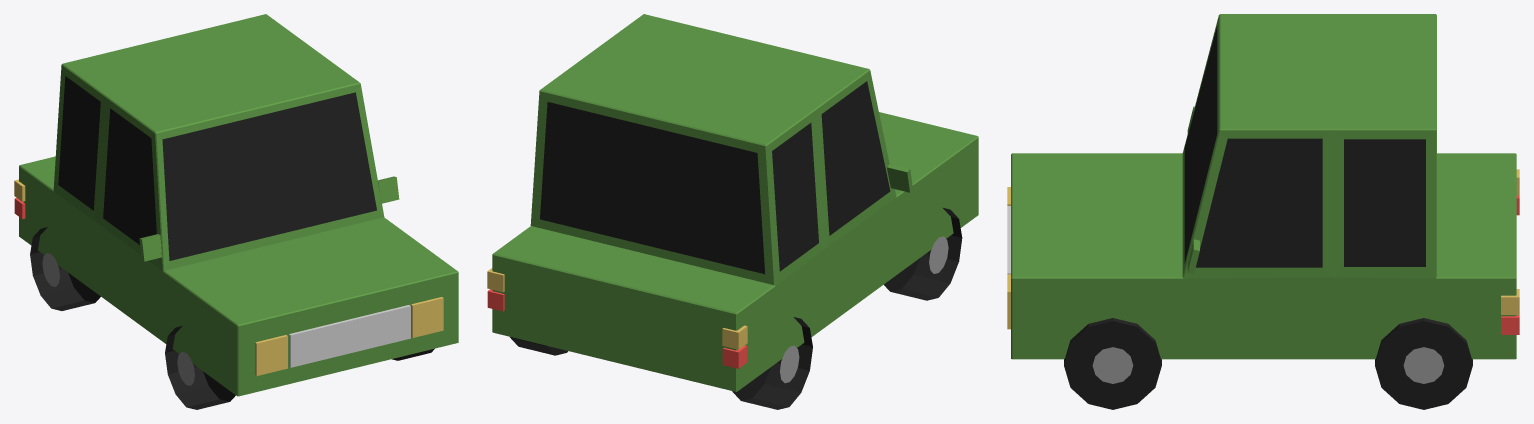
File: car1.fbx
The picture shows the model from 3 angles, left to right: view 1: azimuth 30°, elevation 25°; view 2: azimuth 150°, elevation 25°; view 3: azimuth 270°, elevation 25°; orthographic projection. The views are drawn at different scales.
Visible parts, largest first — view 1: Car1, Wheel.BR, Wheel.FR; view 2: Car1, Wheel.BR, Wheel.FR; view 3: Car1, Wheel.BL, Wheel.FL.
Boxes of the visible parts, bbox=[...] form: Car1: bbox=[14, 14, 458, 396]; Wheel.BR: bbox=[30, 227, 100, 310]; Wheel.FR: bbox=[165, 326, 235, 409]; Car1: bbox=[487, 14, 978, 391]; Wheel.BR: bbox=[732, 317, 812, 409]; Wheel.FR: bbox=[884, 208, 962, 300]; Car1: bbox=[1007, 14, 1519, 359]; Wheel.BL: bbox=[1375, 318, 1472, 409]; Wheel.FL: bbox=[1064, 318, 1161, 409].
Size of the model in its own units: 168 by 149 by 253.
